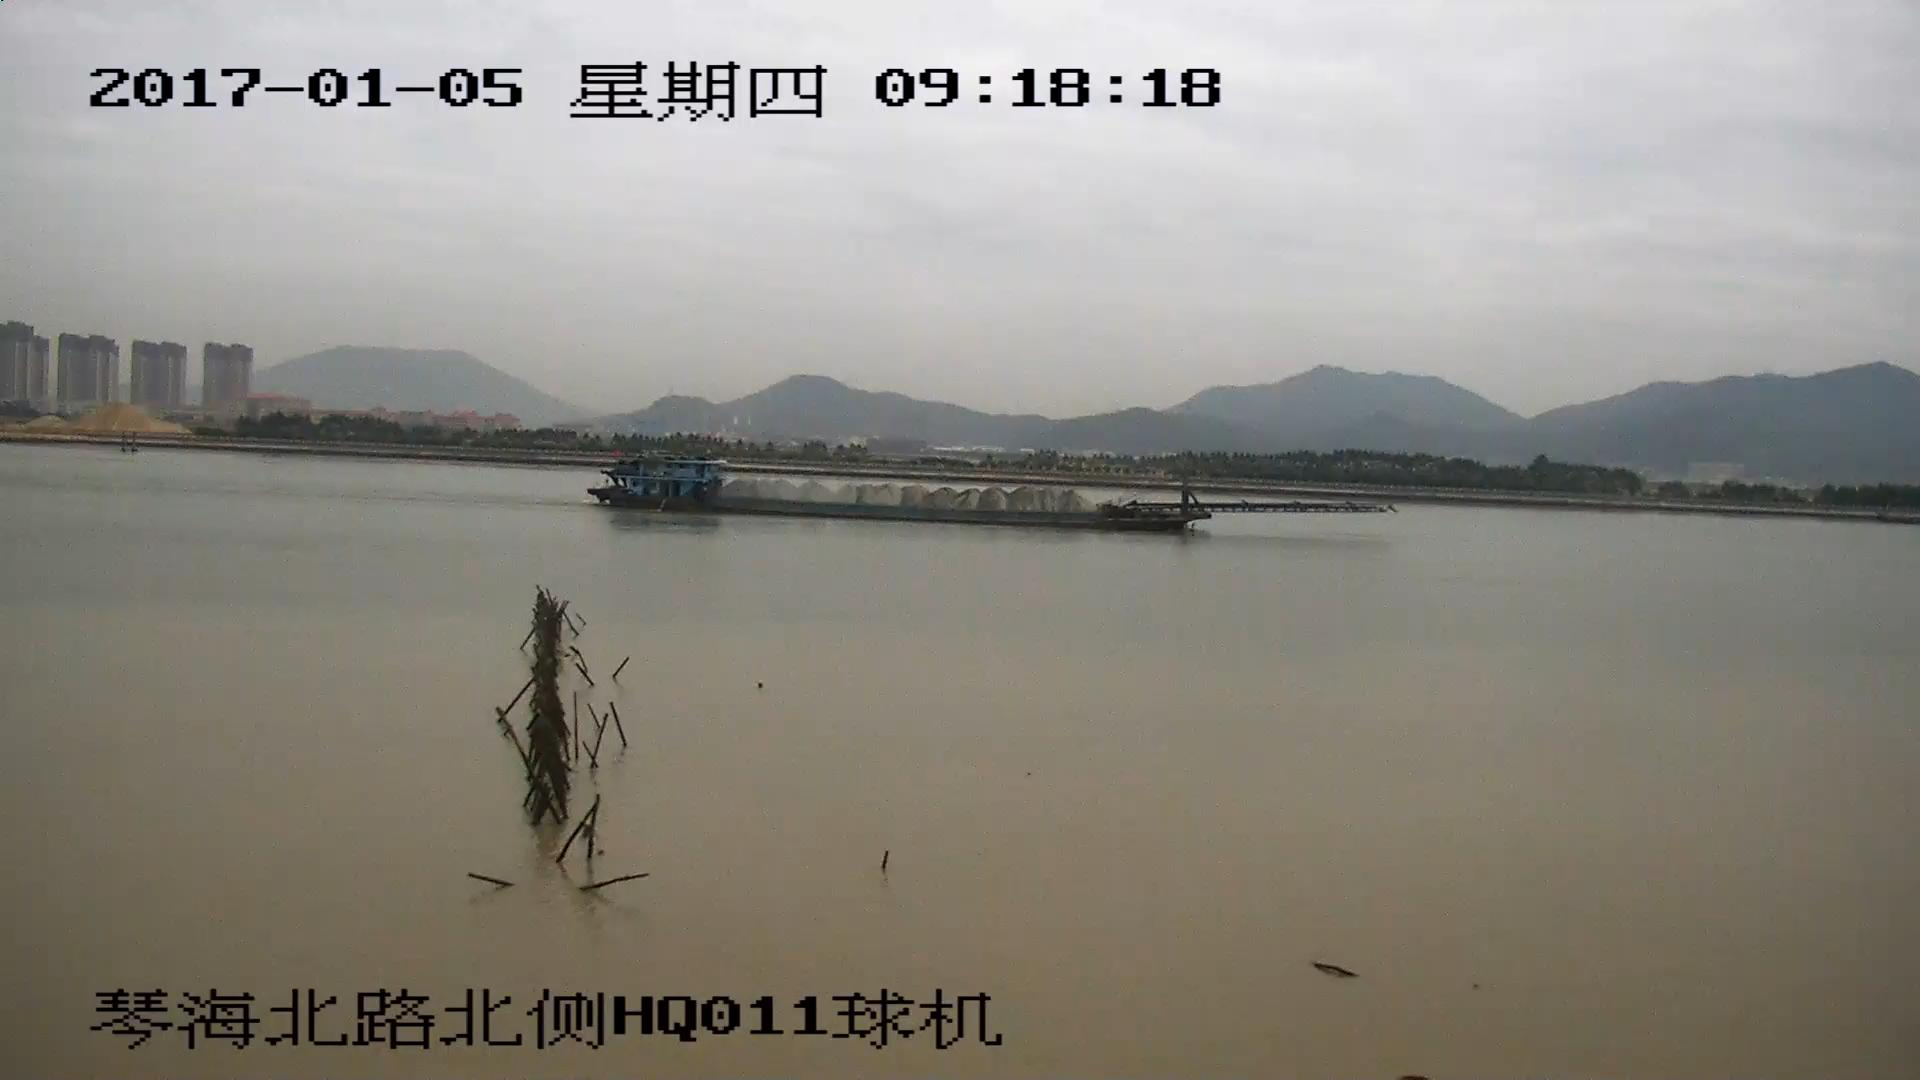ore carrier: (588, 456, 1380, 534)
